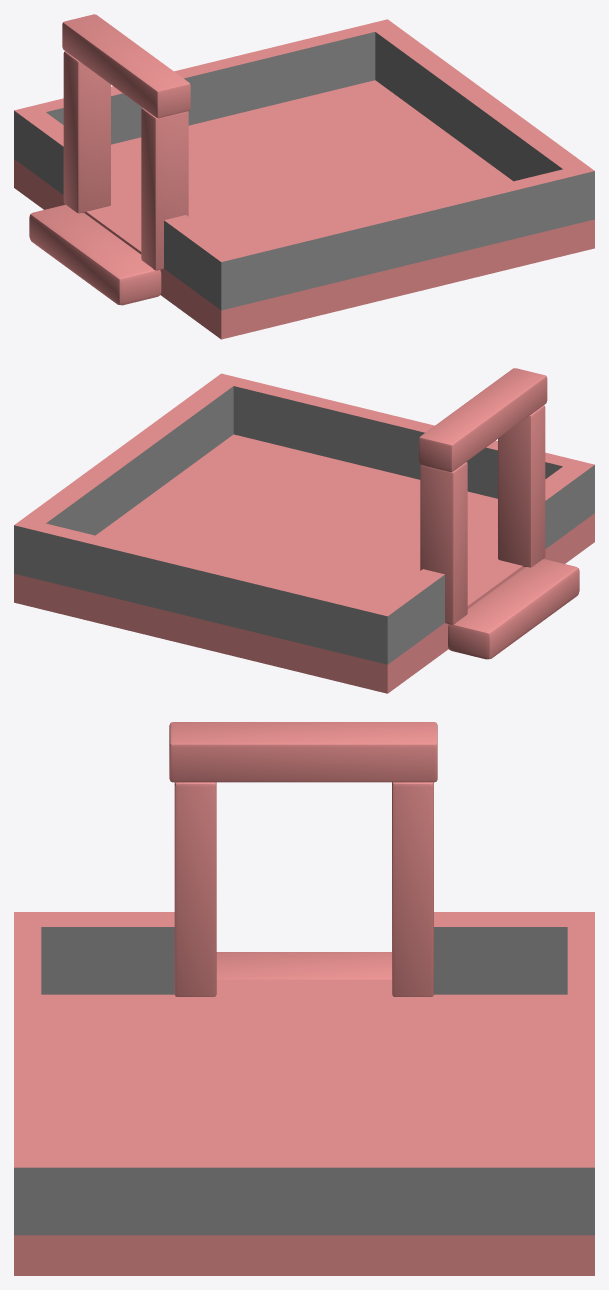
Rendered from HarborHouse01_Foundation.fbx.
3 views of the same model, one above another, from view 1: azimuth 30°, elevation 25°; view 2: azimuth 150°, elevation 25°; view 3: azimuth 270°, elevation 25° (orthographic). The views are drawn at different scales.
Visible parts, largest first — view 1: SM_HarborHouse01_HarborHouse01_Foundation; view 2: SM_HarborHouse01_HarborHouse01_Foundation; view 3: SM_HarborHouse01_HarborHouse01_Foundation.
Boxes of the visible parts, x1,y1,x2,y2 form: SM_HarborHouse01_HarborHouse01_Foundation: (14,14,594,339); SM_HarborHouse01_HarborHouse01_Foundation: (14,368,594,693); SM_HarborHouse01_HarborHouse01_Foundation: (14,722,594,1275).
Bounding box in the file's own units: 452 × 217 × 388.
